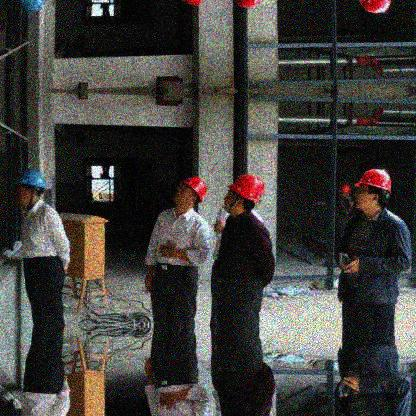helmet: (354, 167, 389, 210), (223, 175, 265, 210), (14, 169, 46, 207), (173, 176, 207, 206), (339, 183, 351, 199)
